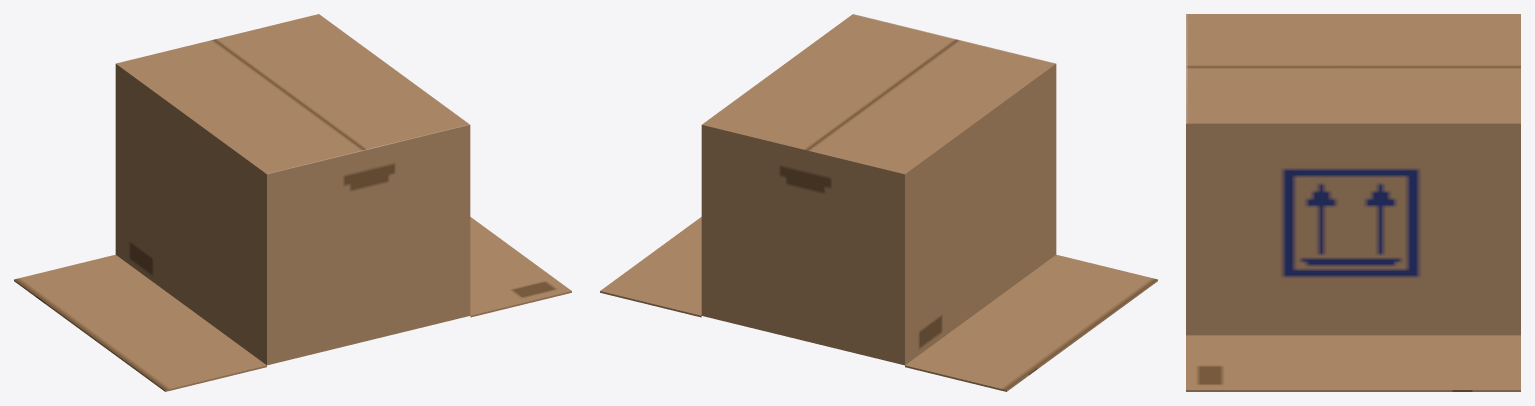
File: Hide_Box.fbx
3 renders of one model, left to right at view 1: azimuth 30°, elevation 25°; view 2: azimuth 150°, elevation 25°; view 3: azimuth 270°, elevation 25°, orthographic. The views are drawn at different scales.
Visible parts, largest first — view 1: Box; view 2: Box; view 3: Box.
Part boxes in pixels (x1,y1,x2,y2): Box: (14,14,571,391); Box: (600,14,1157,391); Box: (1186,14,1520,391).
Bounding box in the file's own units: 272 × 123 × 176.
